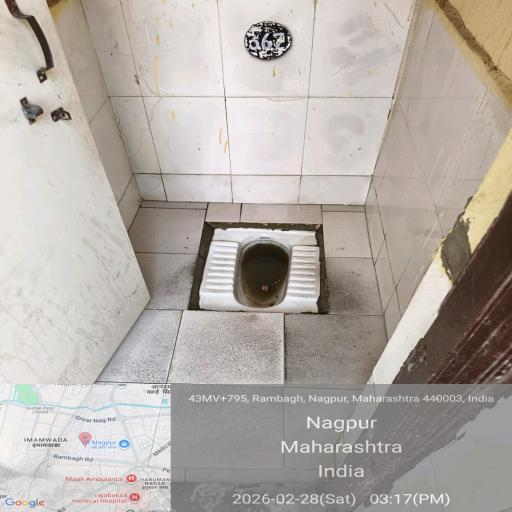dirty_indian: (189, 216, 327, 335)
partial_dirty_floor: (108, 211, 411, 512), (112, 12, 450, 188)
